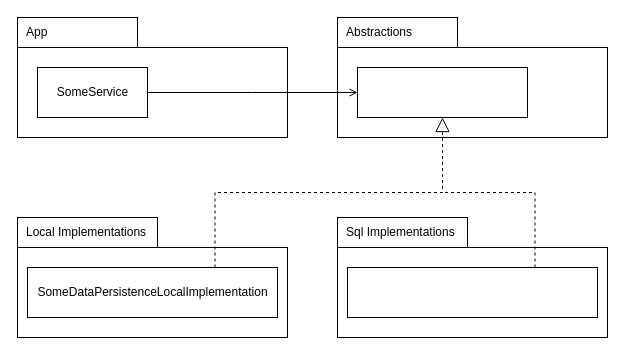
The diagram is 625 pixels wide and 355 high, and some of its shapes have lost their labels. The shapes that lost their labels are listed below. From the top down, each one's box as (x1, y1, x2, y2) in pixels, then its label:
(356, 66, 528, 118): ISomeDataPersistence
(346, 266, 598, 318): SomeDataPersistenceSqlImplementation
